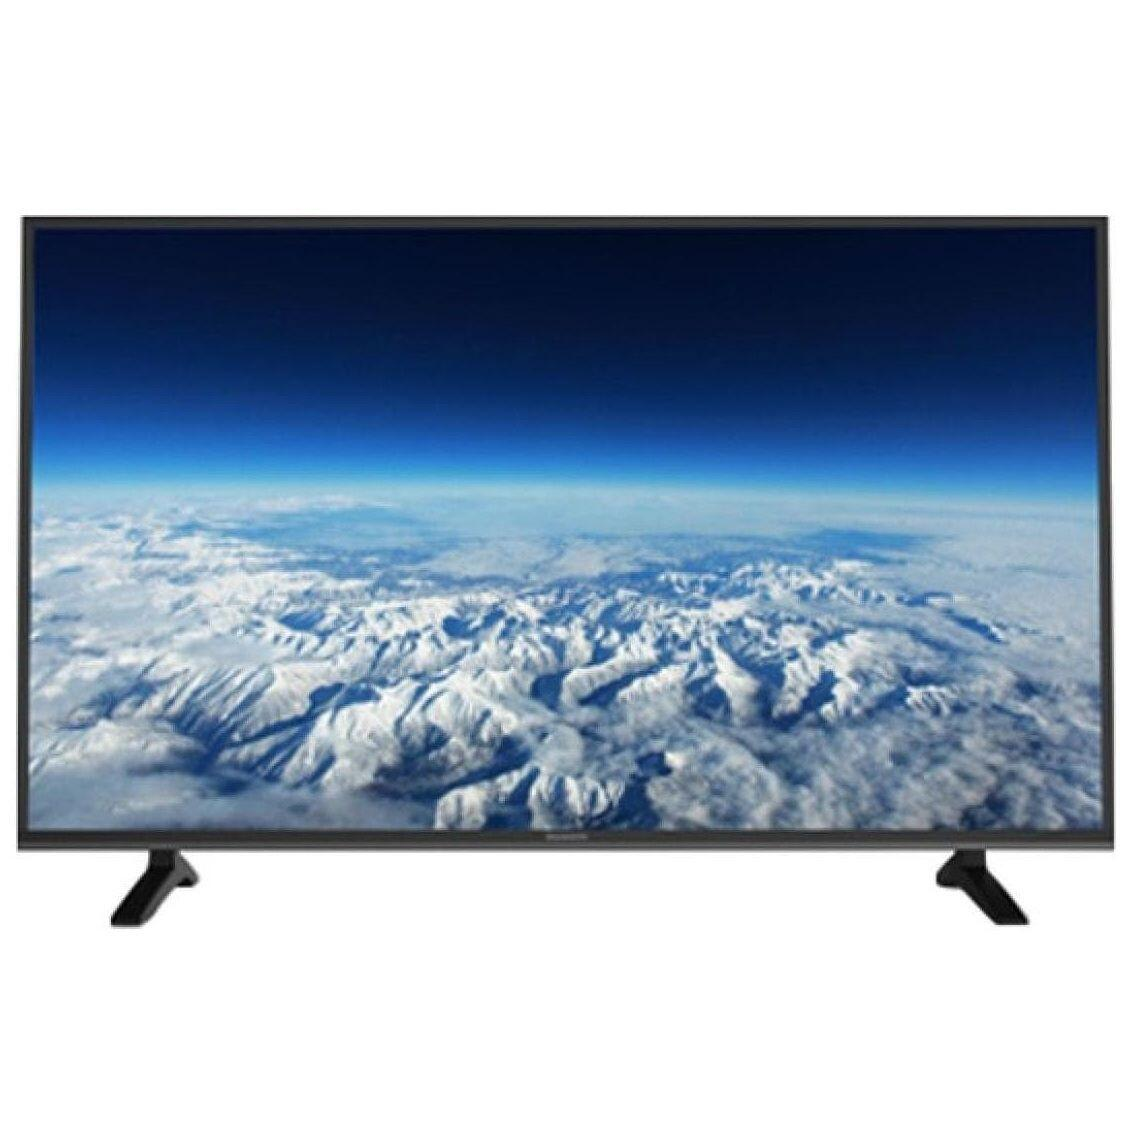tv: (6, 199, 1116, 913)
